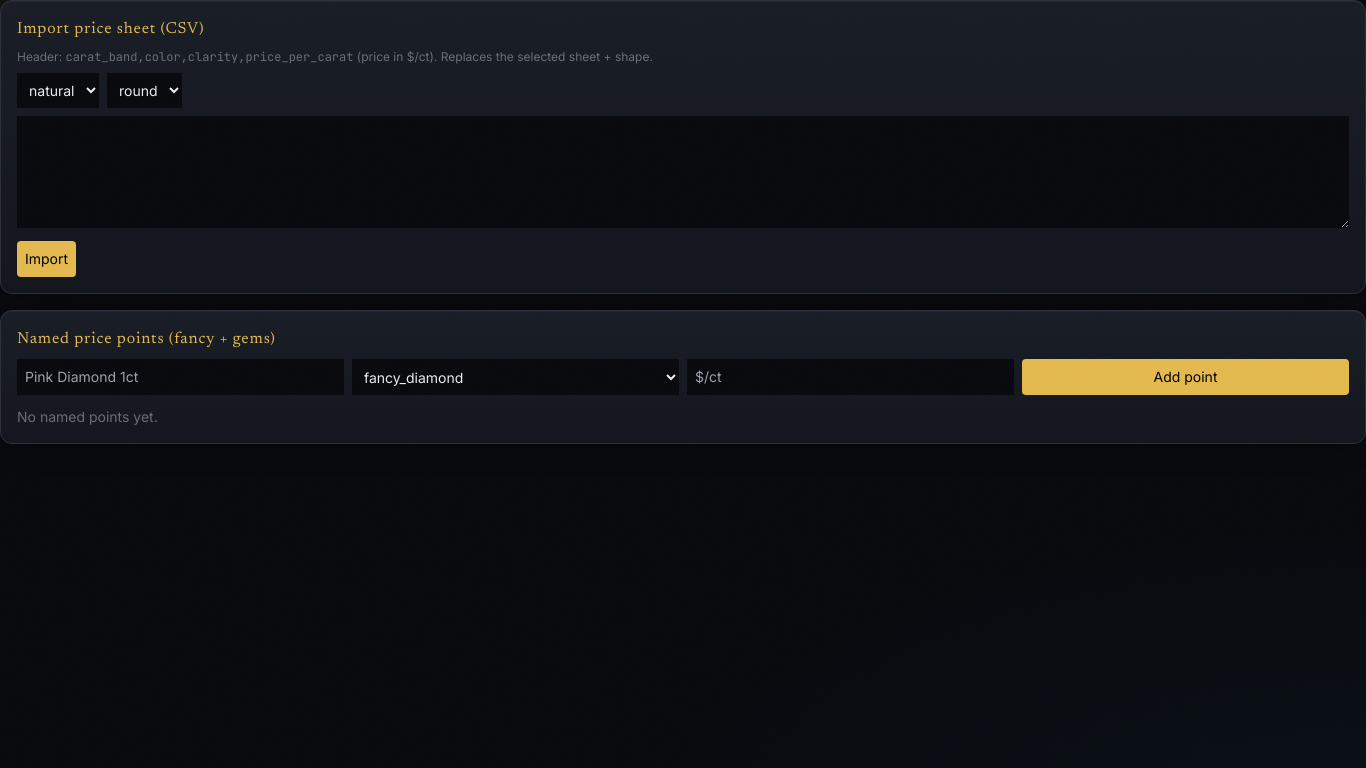
Scenario: surfaces an import error
The width and height of the screenshot is (1366, 768).
In the text box named "csv": (683, 172) [17,116,1349,228], type "x"
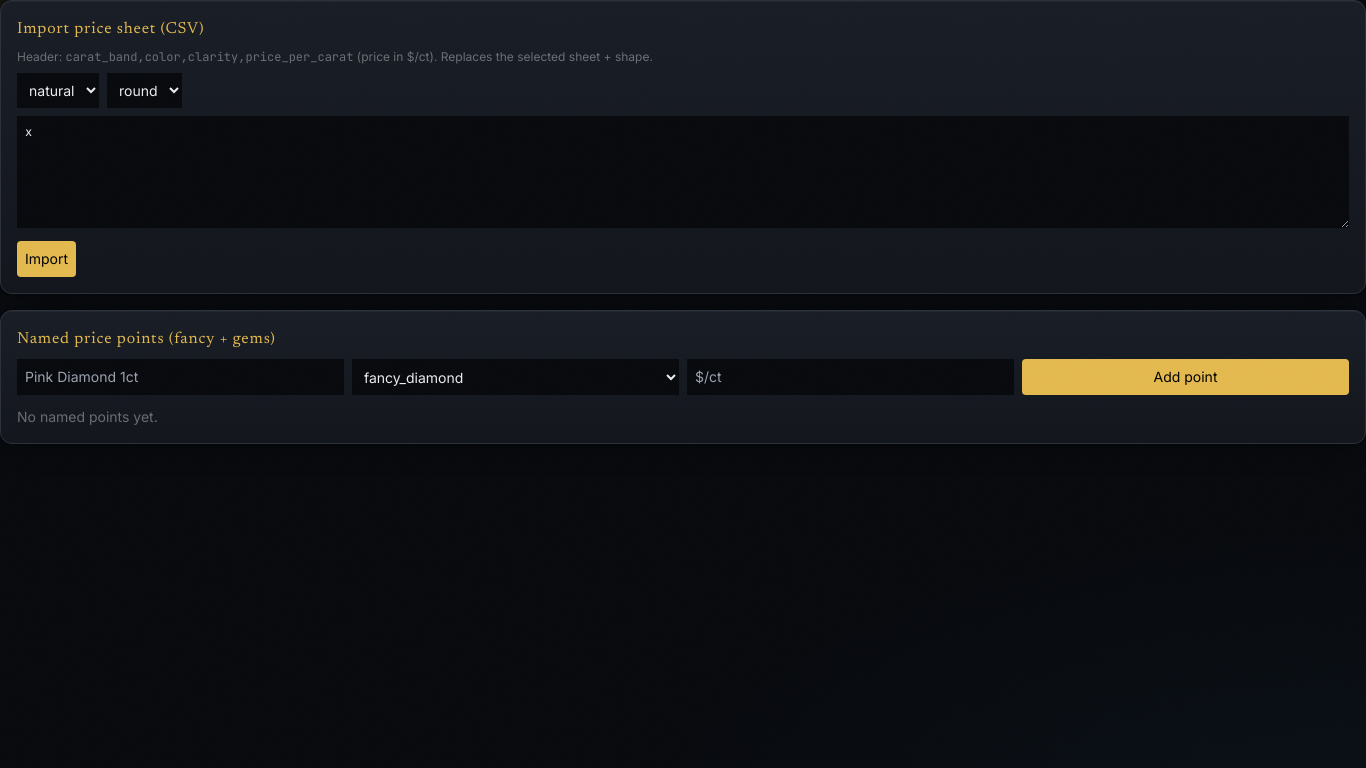
Click the button "Import": (47, 259) [17,241,76,277]
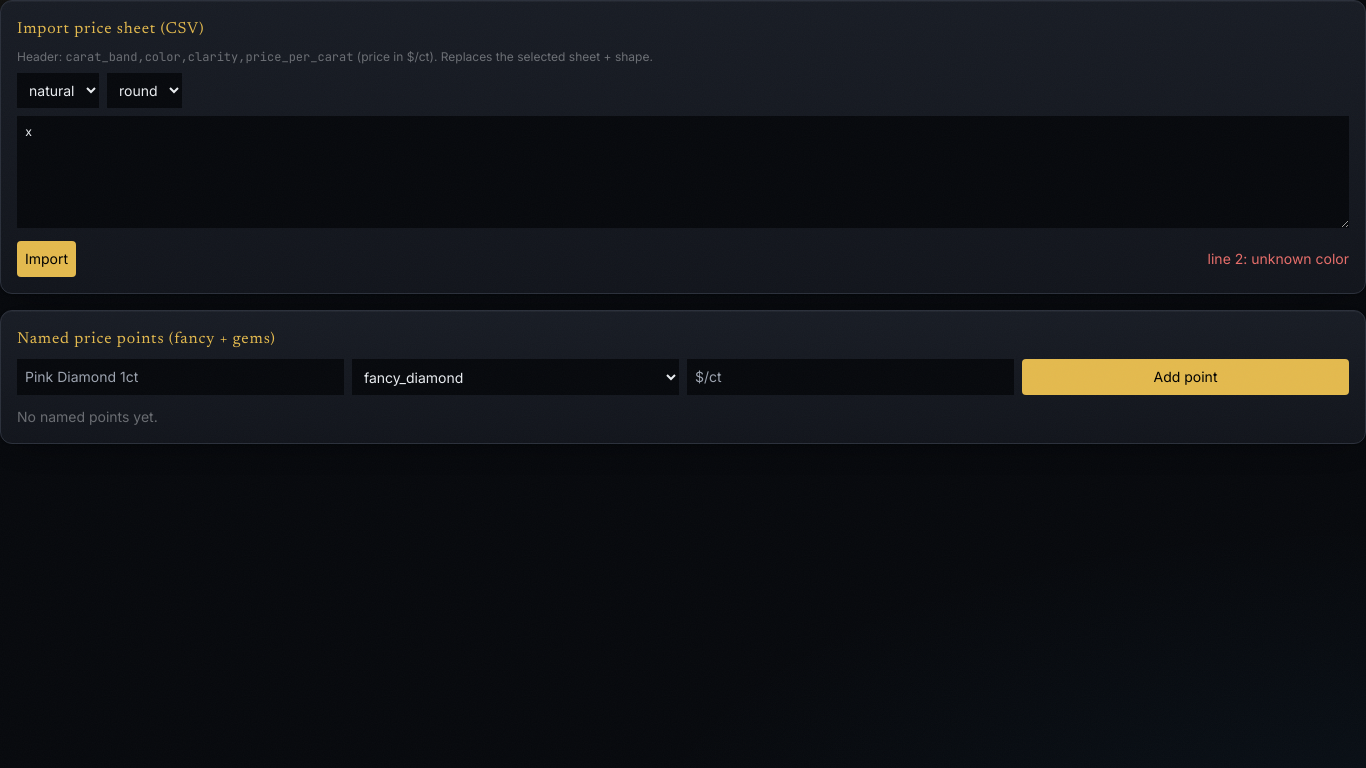
Expected: the message shows "unknown color", [1208,250,1349,267]
